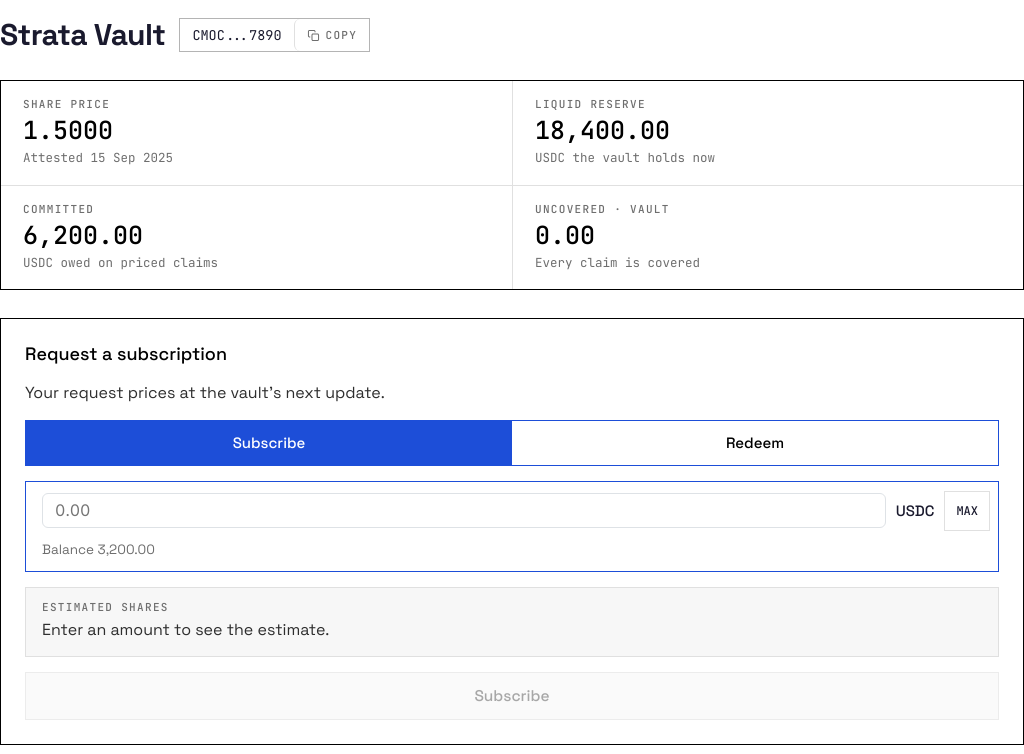
VaultPreview › reflects a confirmed redemption request in the request list without a manual refresh
Click the tab "Redeem" at {"x": 755, "y": 442}, box [512,420,998,464]
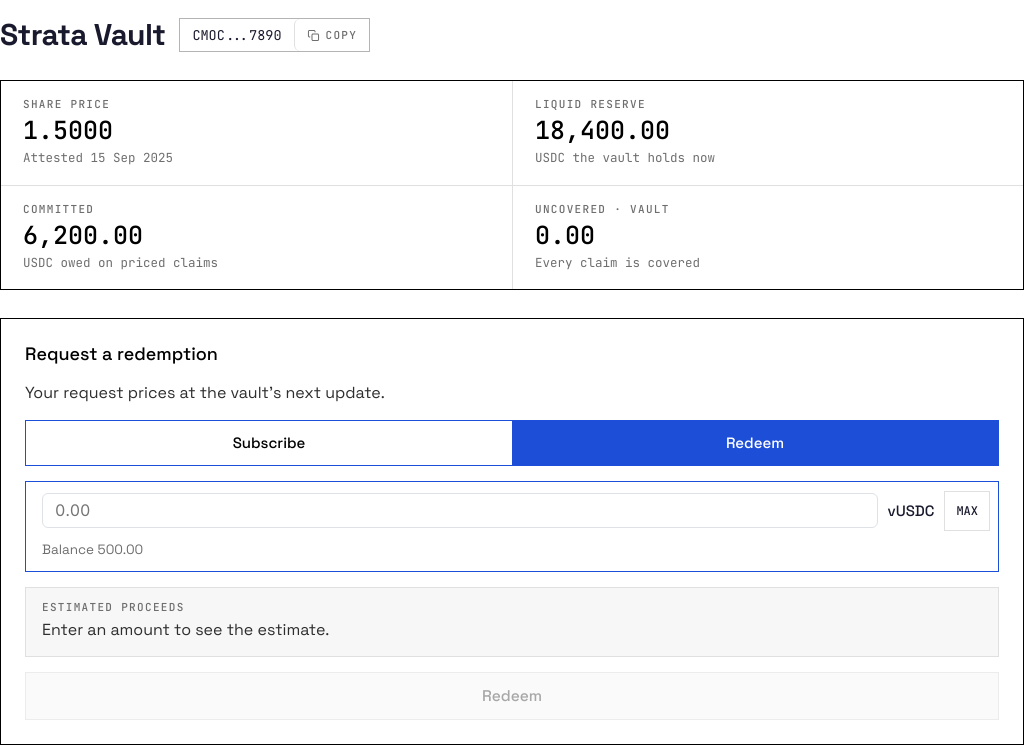
Type "150" into the field named "Amount to redeem" at {"x": 460, "y": 510}, box [42,493,878,528]
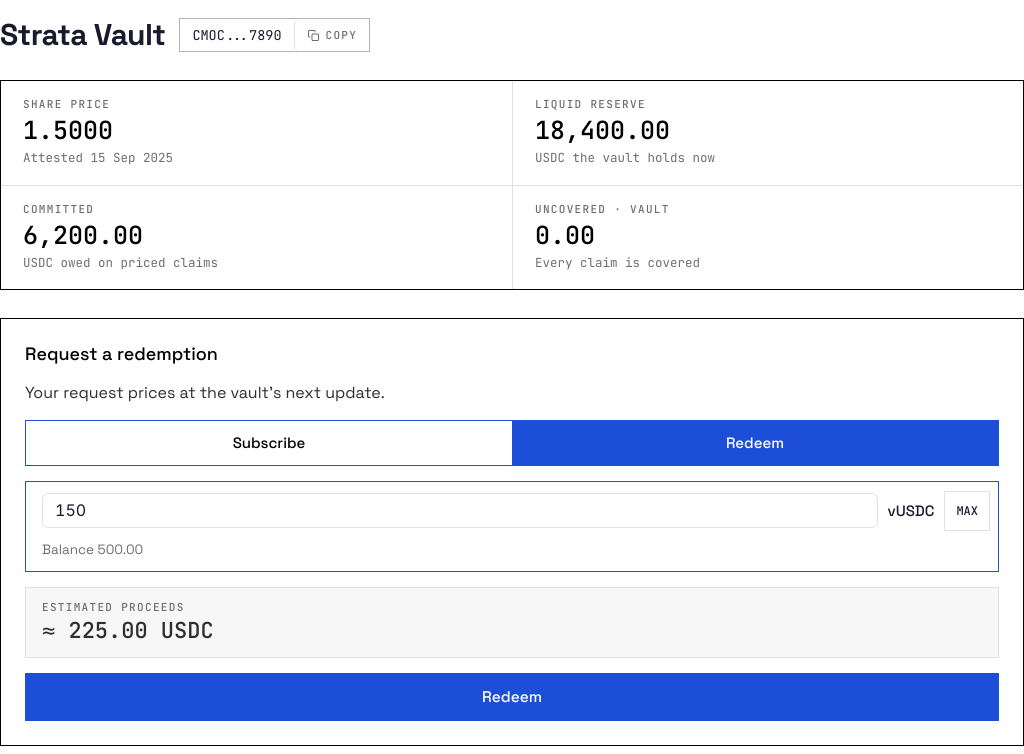
Click the button "Redeem" at {"x": 512, "y": 697}, box [25,673,999,721]
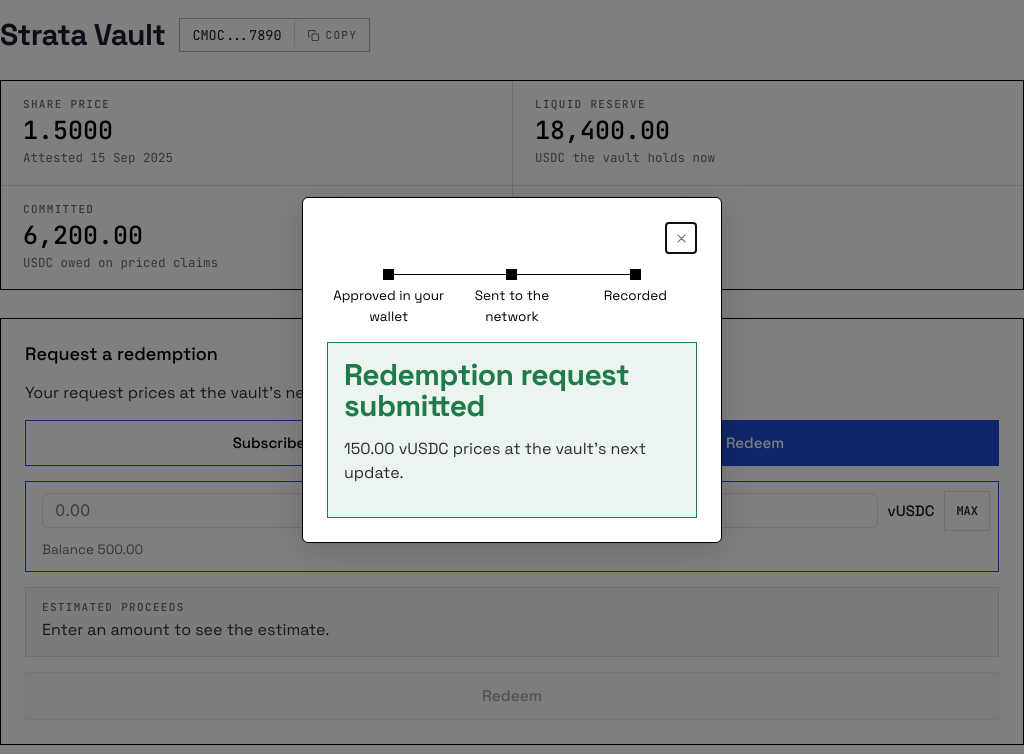
Expected: the heading "Redemption request submitted" is shown, [344,355,629,425]
Click the button named "Close" at {"x": 681, "y": 238}, box [665,222,697,254]
(page scrolled)
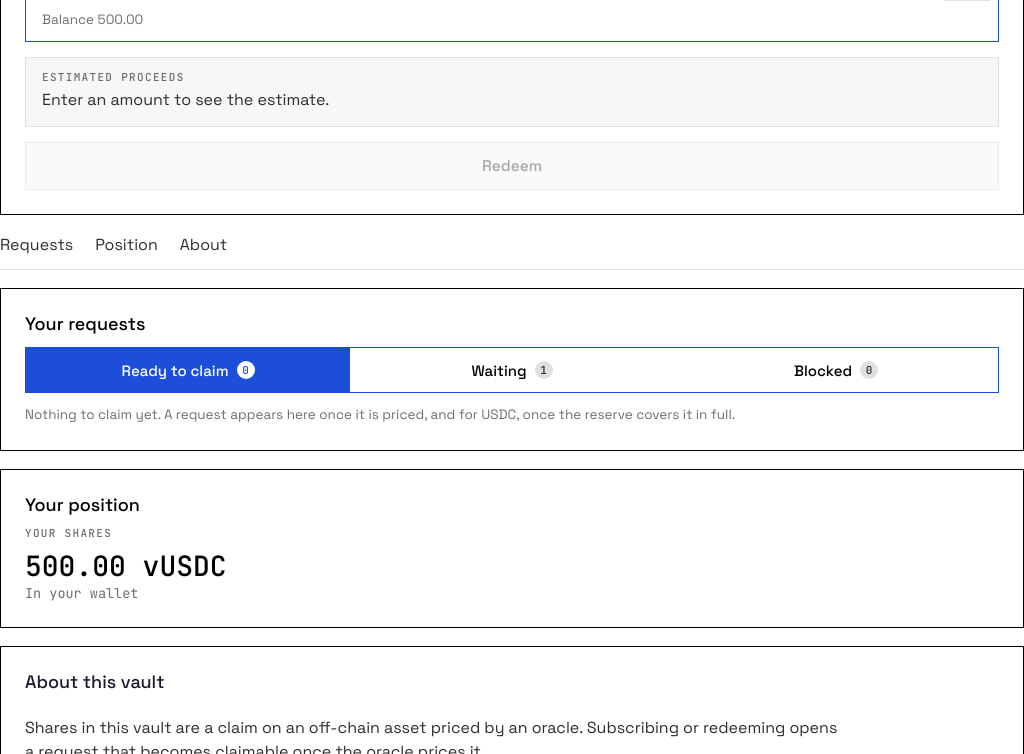
Click the tab "Waiting 1" at {"x": 512, "y": 370}, box [350,348,674,392]
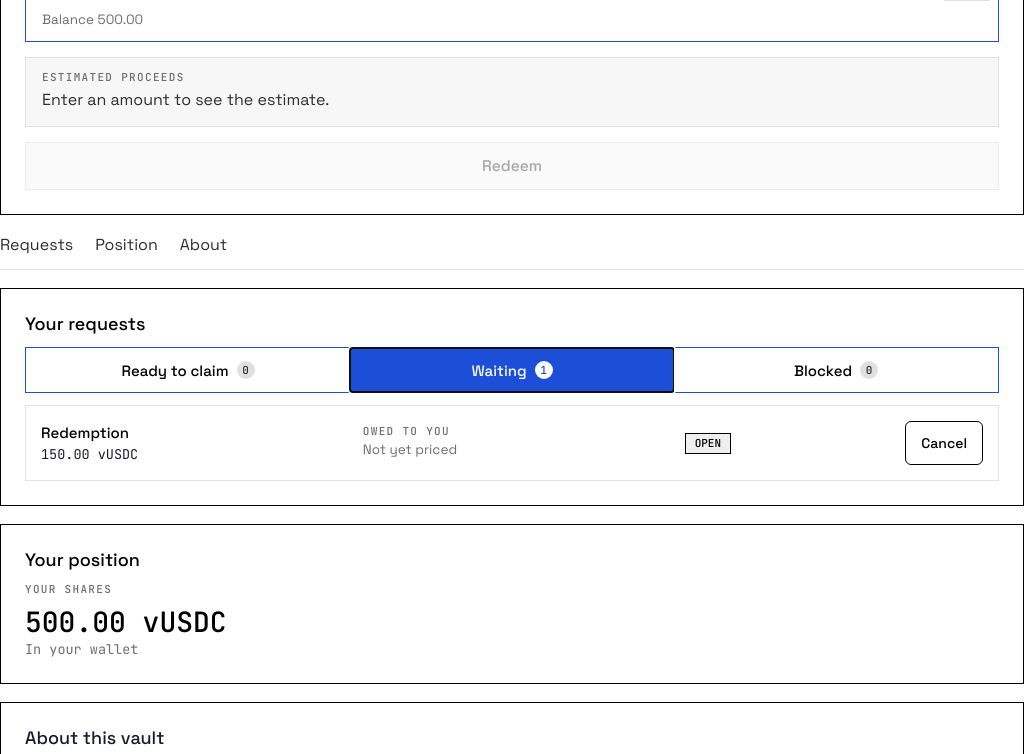
Expected: the text "Redemption" is shown, [41,422,129,442]
Expected: the text "150.00 vUSDC" is shown, [41,445,138,463]
